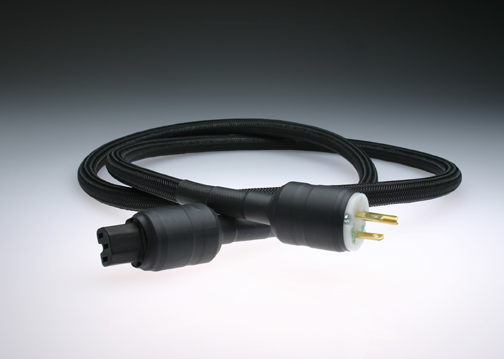Nonrec_Tangler: (42, 91, 471, 263)
